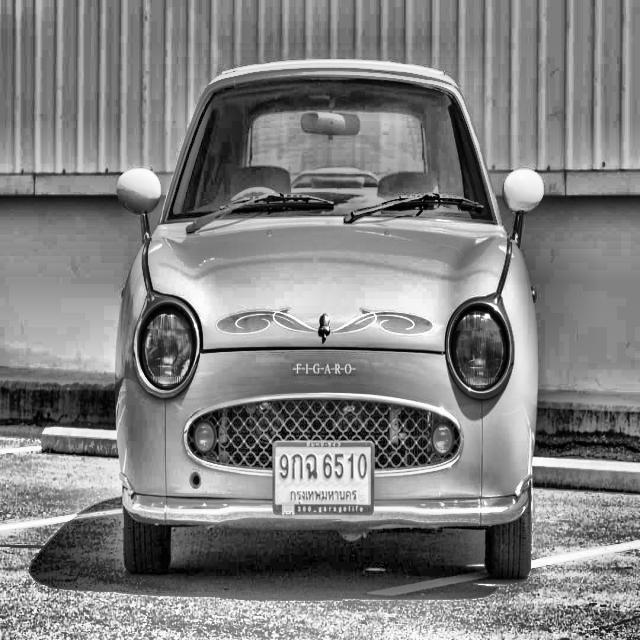license-plate: (271, 438, 375, 518)
